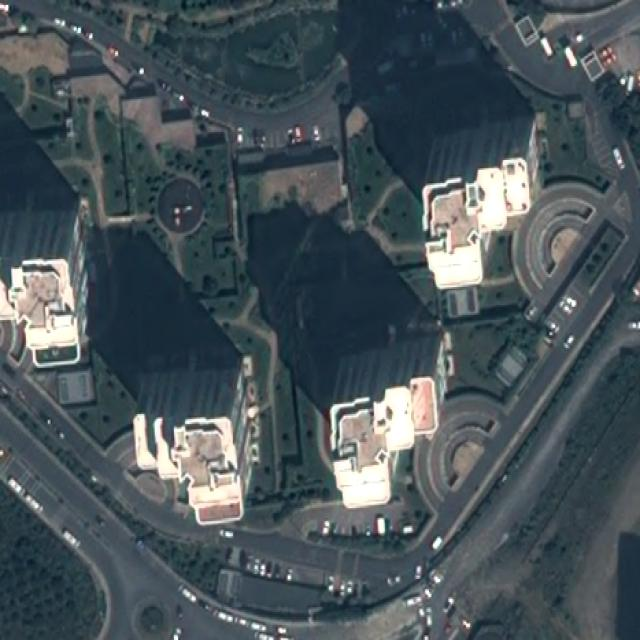Batiment: (132, 358, 258, 524), (330, 334, 450, 508), (0, 208, 89, 369), (422, 158, 530, 290)
